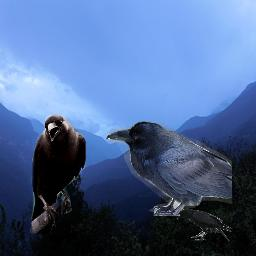Crow: (106, 121, 232, 216), (30, 114, 86, 234), (175, 209, 233, 241)
